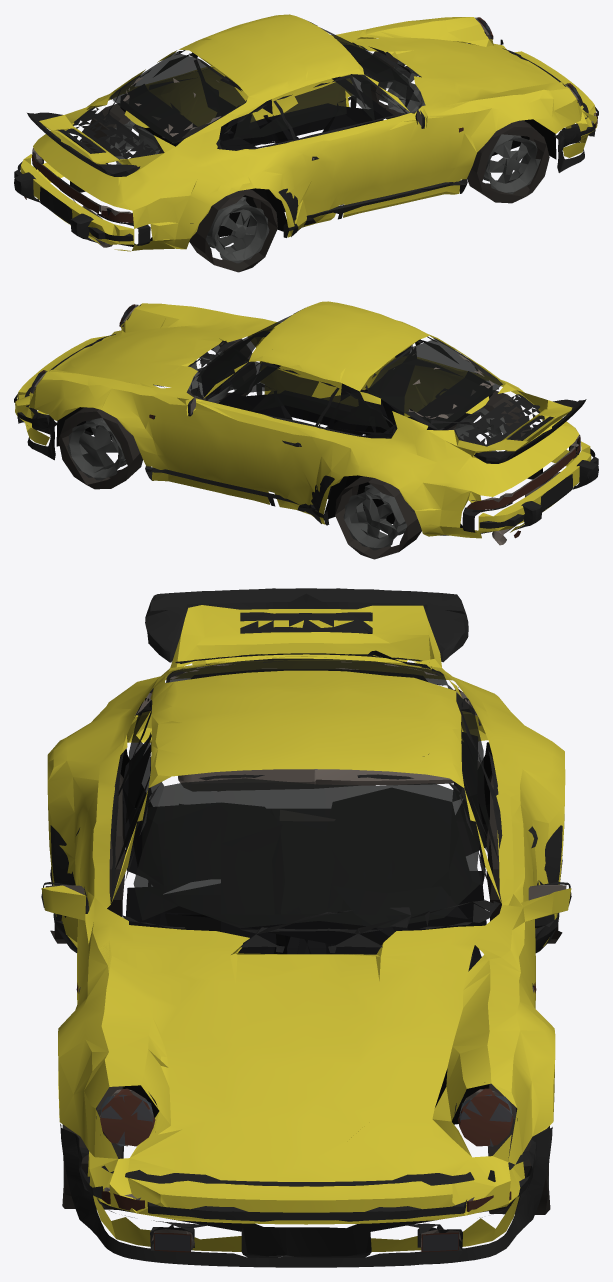
File: kz_kestrel_race.glb
3 views of the same model, one above another, from view 1: azimuth 30°, elevation 25°; view 2: azimuth 150°, elevation 25°; view 3: azimuth 270°, elevation 25° (orthographic). The views are drawn at different scales.
Visible parts, largest first — view 1: Object_177, Object_43, Object_165, Object_98.001, wheel_RR, wheel_FR, wheel_FL, Object_87.002, wheel_RL, Object_203, Object_46; view 2: Object_177, Object_43, Object_165, Object_98.001, wheel_RL, wheel_FL, wheel_RR, Object_203, Object_87.002, wheel_FR, Object_46; view 3: Object_177, Object_43, Object_98.001, Object_165, Object_203, Object_46, Object_87.002, Object_150, wheel_RR, wheel_RL, wheel_FL, wheel_FR.
Boxes of the visible parts, box(x1,y1,x2,y2) form: Object_177: box(20, 14, 597, 251); Object_43: box(110, 27, 419, 143); Object_165: box(14, 21, 598, 245); Object_98.001: box(120, 45, 414, 211); wheel_RR: box(189, 189, 277, 272); wheel_FR: box(467, 120, 549, 203); wheel_FL: box(361, 51, 425, 116); Object_87.002: box(70, 119, 556, 246); wheel_RL: box(82, 103, 164, 164); Object_203: box(24, 17, 597, 222); Object_46: box(32, 19, 595, 247); Object_177: box(15, 301, 591, 538); Object_43: box(196, 315, 502, 432); Object_165: box(14, 304, 598, 532); Object_98.001: box(202, 331, 492, 498); wheel_RL: box(335, 476, 421, 559); wheel_FL: box(58, 407, 142, 489); wheel_RR: box(446, 390, 531, 451); Object_203: box(15, 304, 580, 538); Object_87.002: box(56, 407, 542, 535); wheel_FR: box(186, 338, 256, 405); Object_46: box(17, 305, 579, 545); Object_177: box(41, 605, 571, 1252); Object_43: box(115, 658, 498, 928); Object_98.001: box(122, 670, 486, 970); Object_165: box(41, 588, 571, 1267); Object_203: box(76, 689, 536, 1252); Object_46: box(45, 661, 566, 1250); Object_87.002: box(106, 742, 506, 1231); Object_150: box(101, 1094, 511, 1251); wheel_RR: box(50, 773, 125, 943); wheel_RL: box(486, 772, 562, 943); wheel_FL: box(488, 1084, 550, 1214); wheel_FR: box(62, 1086, 123, 1209).
Size of the model in its own units: 4.88 by 1.43 by 2.15.
